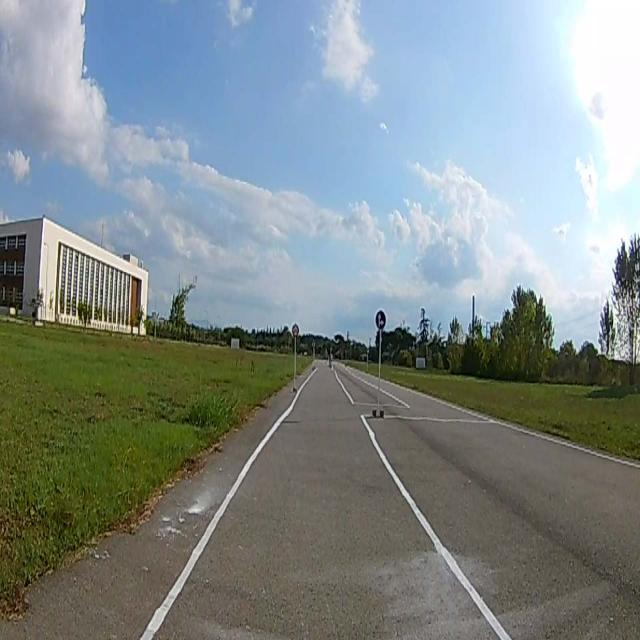ilerisag: (376, 311, 386, 328)
